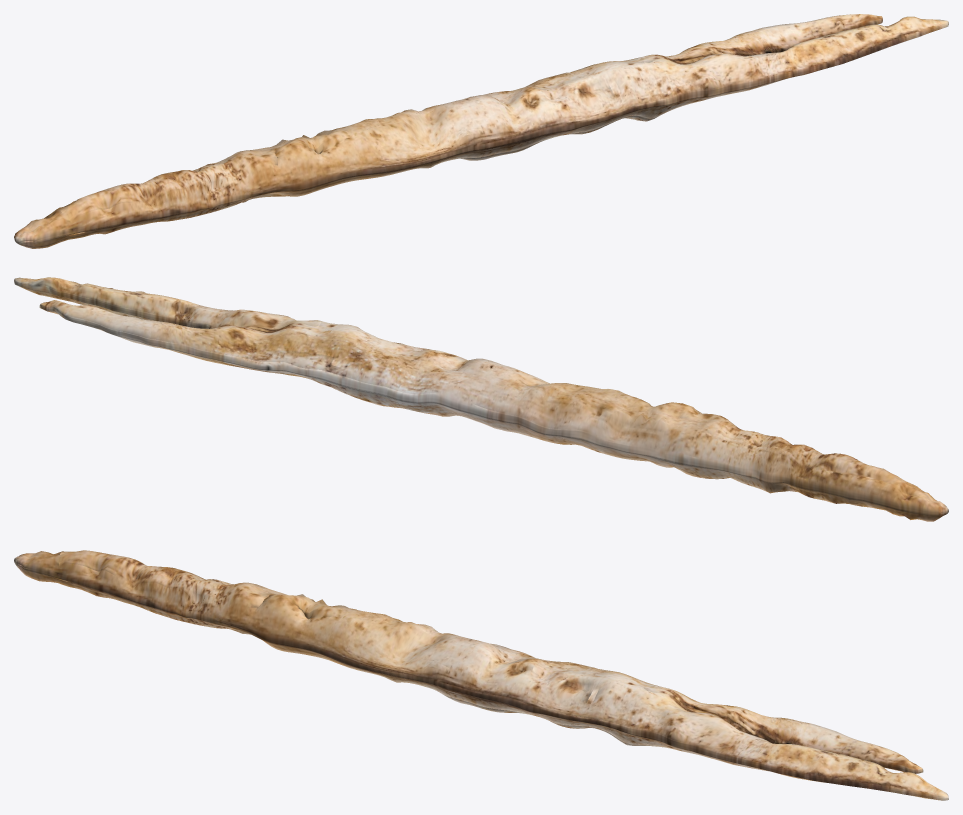
File: osso.gltf
The picture shows the model from 3 angles, top to bottom: view 1: azimuth 30°, elevation 25°; view 2: azimuth 150°, elevation 25°; view 3: azimuth 330°, elevation 25°; orthographic projection.
Parts seen in each view (by area): view 1: OSSO; view 2: OSSO; view 3: OSSO.
Part boxes in pixels (left/top/right/bottom): OSSO: left=14, top=14, right=948, bottom=248; OSSO: left=14, top=277, right=948, bottom=521; OSSO: left=14, top=550, right=948, bottom=800.
Size of the model in its own units: 0.2398 by 0.0144 by 0.0218.
1 material, 1 textured.
